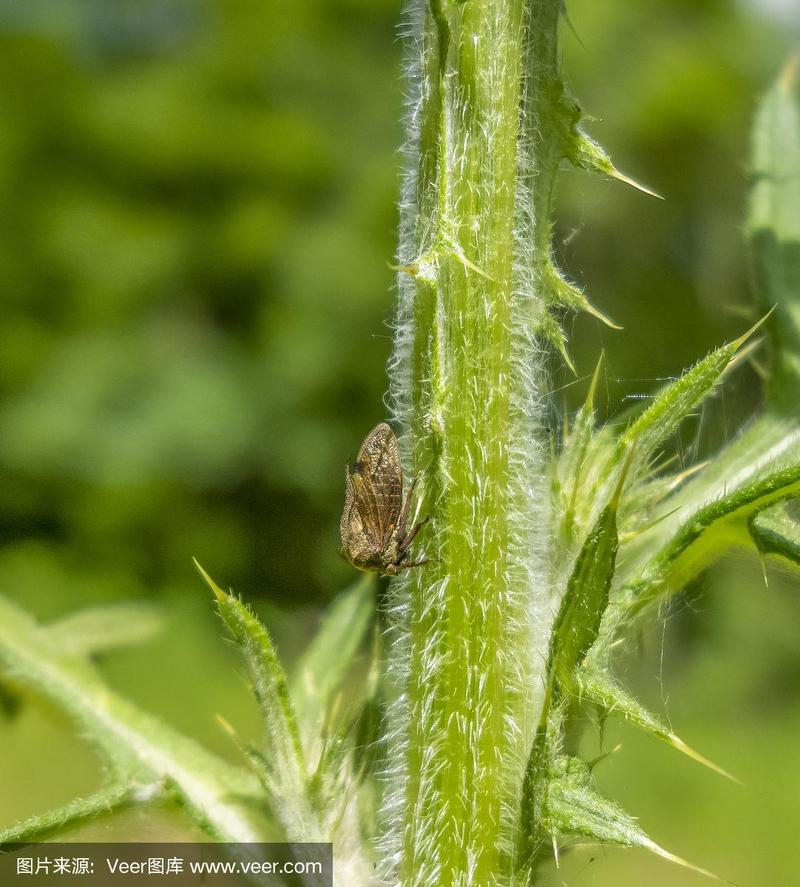Cicadellidae: (341, 423, 428, 575)
